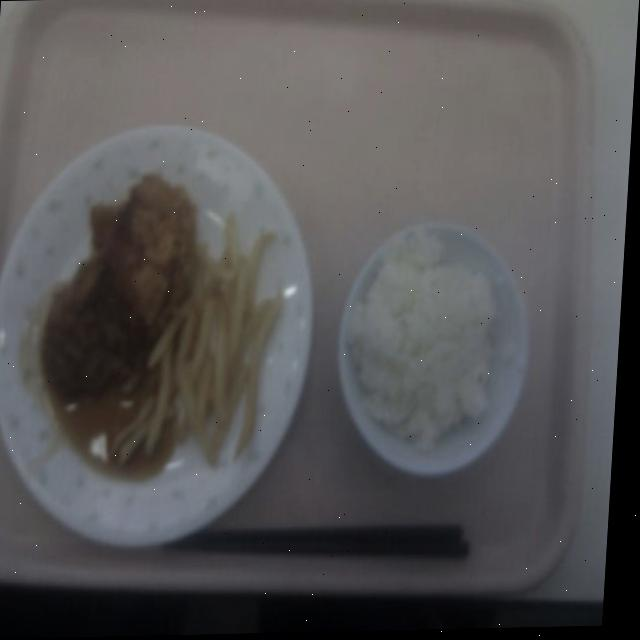米饭主食: (339, 217, 541, 491)
